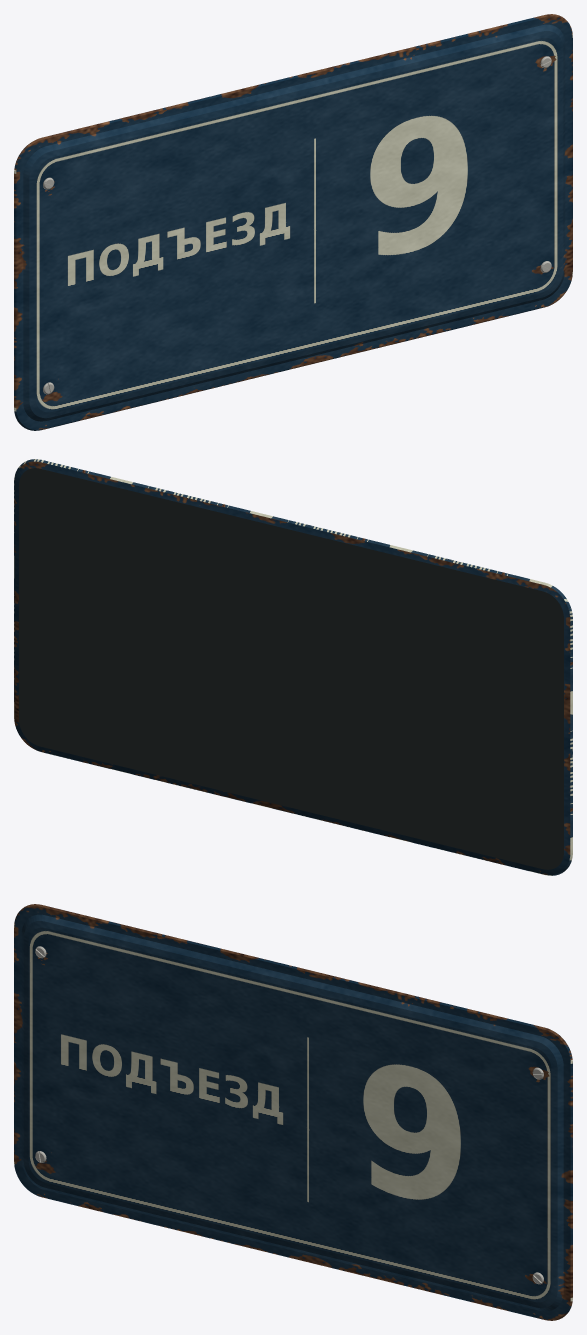
File: Entrance.glb
The picture shows the model from 3 angles, top to bottom: view 1: azimuth 30°, elevation 25°; view 2: azimuth 150°, elevation 25°; view 3: azimuth 330°, elevation 25°; orthographic projection.
Parts seen in each view (by area): view 1: Pressed_enamel_steel; view 2: Pressed_enamel_steel; view 3: Pressed_enamel_steel.
Part boxes in pixels (x1=…): Pressed_enamel_steel: x1=14, y1=14, x2=572, y2=430; Pressed_enamel_steel: x1=14, y1=459, x2=572, y2=875; Pressed_enamel_steel: x1=14, y1=904, x2=572, y2=1320.
Size of the model in its own units: 0.4 by 0.2 by 0.00832.
Materials: 3 (1 with a texture image).
